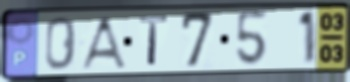0: (43, 14, 78, 72)
1: (296, 9, 318, 66)
5: (234, 9, 271, 70)
7: (179, 10, 217, 72)
A: (77, 15, 129, 71)
T: (137, 15, 171, 69)
